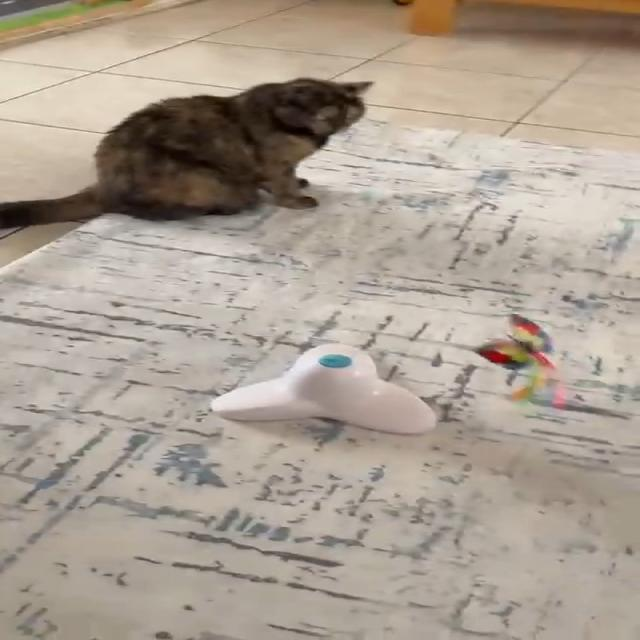authorized: (0, 76, 375, 230)
